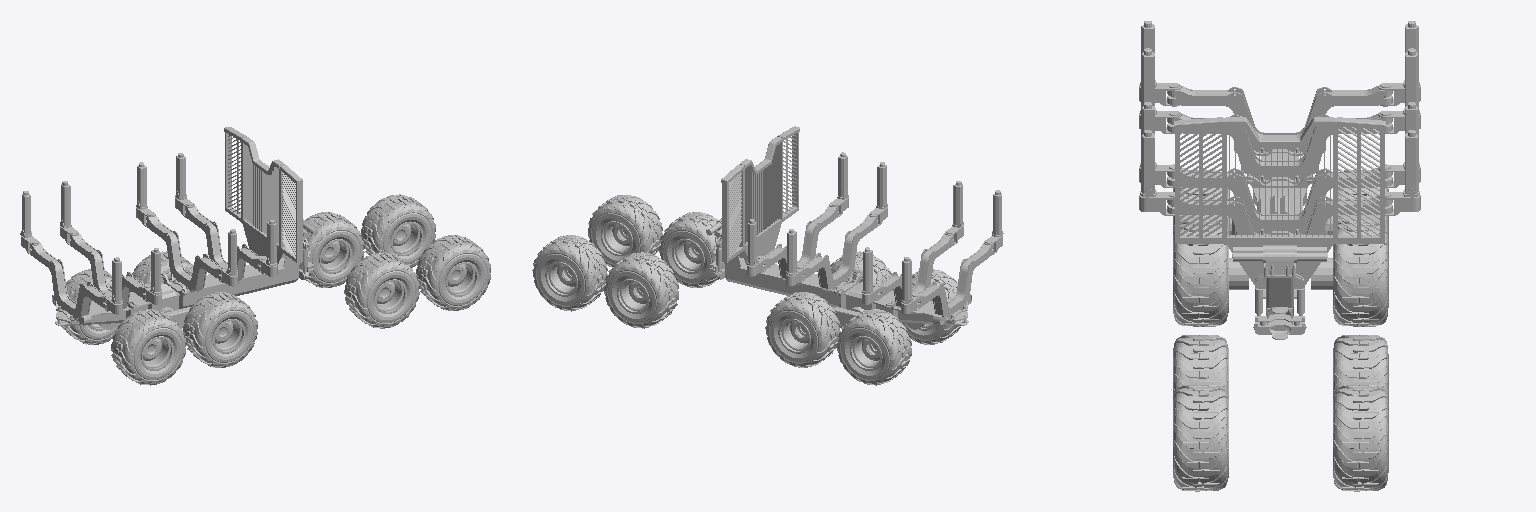
robot.urdf — forwarder:
<robot name="forwarder" version="1.0">
  <joint name="crane_link_joint" type="fixed">
    <origin rpy="0.00000 0.00000 0.00000" xyz="0.96436 0.00000 3.04438" />
    <parent link="rear_chassis_link" />
    <child link="crane_link" />
  </joint>
  <joint name="fl1_wheel_link_joint" type="revolute">
    <limit lower="-3.14000" upper="3.14000" effort="0.00000" velocity="0.00000" />
    <origin rpy="0.00000 0.00000 0.00000" xyz="0.78107 1.04566 0.00000" />
    <parent link="front_axle_link" />
    <child link="fl1_wheel_link" />
    <axis xyz="0.00000 1.00000 0.00000" />
  </joint>
  <joint name="fl2_wheel_link_joint" type="revolute">
    <limit lower="-3.14000" upper="3.14000" effort="0.00000" velocity="0.00000" />
    <origin rpy="0.00000 0.00000 0.00000" xyz="-0.78107 1.04565 0.00000" />
    <parent link="front_axle_link" />
    <child link="fl2_wheel_link" />
    <axis xyz="0.00000 1.00000 0.00000" />
  </joint>
  <joint name="fr1_wheel_link_joint" type="revolute">
    <limit lower="-3.14000" upper="3.14000" effort="0.00000" velocity="0.00000" />
    <origin rpy="0.00000 0.00000 0.00000" xyz="0.78107 -1.04566 -0.00000" />
    <parent link="front_axle_link" />
    <child link="fr1_wheel_link" />
    <axis xyz="0.00000 1.00000 0.00000" />
  </joint>
  <joint name="fr2_wheel_link_joint" type="revolute">
    <limit lower="-3.14000" upper="3.14000" effort="0.00000" velocity="0.00000" />
    <origin rpy="0.00000 0.00000 0.00000" xyz="-0.78107 -1.04566 0.00000" />
    <parent link="front_axle_link" />
    <child link="fr2_wheel_link" />
    <axis xyz="0.00000 1.00000 0.00000" />
  </joint>
  <joint name="front_axle_link_joint" type="fixed">
    <origin rpy="0.00000 0.00000 0.00000" xyz="-0.15880 0.00000 -1.89274" />
    <parent link="front_chassis_link" />
    <child link="front_axle_link" />
  </joint>
  <joint name="front_chassis_link_joint" type="fixed">
    <origin rpy="0.00000 0.00000 0.00000" xyz="1.98971 0.00000 1.46893" />
    <parent link="hitch_link" />
    <child link="front_chassis_link" />
  </joint>
  <joint name="front_end_link_joint" type="fixed">
    <origin rpy="0.00000 0.00000 0.00000" xyz="2.52363 0.00000 -1.36646" />
    <parent link="front_chassis_link" />
    <child link="front_end_link" />
  </joint>
  <joint name="hitch_link_joint" type="revolute">
    <limit lower="-3.14000" upper="3.14000" effort="0.00000" velocity="0.00000" />
    <origin rpy="0.00000 0.00000 0.00000" xyz="2.86877 0.00000 -0.56212" />
    <parent link="rear_chassis_link" />
    <child link="hitch_link" />
    <axis xyz="0.00000 0.00000 1.00000" />
  </joint>
  <joint name="rear_axle_link_joint" type="fixed">
    <origin rpy="0.00000 0.00000 0.00000" xyz="-0.39936 0.00000 -0.98593" />
    <parent link="rear_chassis_link" />
    <child link="rear_axle_link" />
  </joint>
  <joint name="rear_chassis_link_joint" type="fixed">
    <origin rpy="0.00000 0.00000 0.00000" xyz="2.60979 0.00000 0.59423" />
    <parent link="rear_end_link" />
    <child link="rear_chassis_link" />
  </joint>
  <joint name="rear_end_link_joint" type="fixed">
    <origin rpy="0.00000 0.00000 0.00000" xyz="-4.93062 0.00000 1.07094" />
    <parent link="base_link" />
    <child link="rear_end_link" />
  </joint>
  <joint name="rl1_wheel_link_joint" type="revolute">
    <limit lower="-3.14000" upper="3.14000" effort="0.00000" velocity="0.00000" />
    <origin rpy="0.00000 0.00000 0.00000" xyz="0.78107 1.04566 0.00000" />
    <parent link="rear_axle_link" />
    <child link="rl1_wheel_link" />
    <axis xyz="0.00000 1.00000 0.00000" />
  </joint>
  <joint name="rl2_wheel_link_joint" type="revolute">
    <limit lower="-3.14000" upper="3.14000" effort="0.00000" velocity="0.00000" />
    <origin rpy="0.00000 0.00000 0.00000" xyz="-0.78107 1.04565 -0.00000" />
    <parent link="rear_axle_link" />
    <child link="rl2_wheel_link" />
    <axis xyz="0.00000 1.00000 0.00000" />
  </joint>
  <joint name="rr1_wheel_link_joint" type="revolute">
    <limit lower="-3.14000" upper="3.14000" effort="0.00000" velocity="0.00000" />
    <origin rpy="0.00000 0.00000 0.00000" xyz="0.78107 -1.04566 -0.00000" />
    <parent link="rear_axle_link" />
    <child link="rr1_wheel_link" />
    <axis xyz="0.00000 1.00000 0.00000" />
  </joint>
  <joint name="rr2_wheel_link_joint" type="revolute">
    <limit lower="-3.14000" upper="3.14000" effort="0.00000" velocity="0.00000" />
    <origin rpy="0.00000 0.00000 0.00000" xyz="-0.78107 -1.04566 -0.00000" />
    <parent link="rear_axle_link" />
    <child link="rr2_wheel_link" />
    <axis xyz="0.00000 1.00000 0.00000" />
  </joint>
  <link name="base_link" />
  <link name="crane_link">
    <visual name="crane">
      <origin rpy="0.00000 0.00000 0.00000" xyz="0.00000 0.00000 0.00000" />
      <material name="Main_Back_Mat" />
      <geometry>
        <mesh filename="package://waywiser_description/meshes/forwarder/crane.dae"
          scale="1.00000 1.00000 1.00000" />
      </geometry>
    </visual>
  </link>
  <link name="fl1_wheel_link">
    <visual name="fl1_wheel">
      <origin rpy="0.00000 0.00000 0.00000" xyz="0.00000 0.00000 0.00000" />
      <material name="Tires_Mat" />
      <geometry>
        <mesh filename="package://waywiser_description/meshes/forwarder/wheel.dae"
          scale="1.00000 1.00000 1.00000" />
      </geometry>
    </visual>
  </link>
  <link name="fl2_wheel_link">
    <visual name="fl2_wheel">
      <origin rpy="0.00000 0.00000 0.00000" xyz="0.00000 0.00000 0.00000" />
      <material name="Tires_Mat" />
      <geometry>
        <mesh filename="package://waywiser_description/meshes/forwarder/wheel.dae"
          scale="1.00000 1.00000 1.00000" />
      </geometry>
    </visual>
  </link>
  <link name="fr1_wheel_link">
    <visual name="fr1_wheel">
      <origin rpy="0.00000 0.00000 0.00000" xyz="0.00000 0.00000 0.00000" />
      <material name="Tires_Mat" />
      <geometry>
        <mesh filename="package://waywiser_description/meshes/forwarder/wheel.dae"
          scale="1.00000 1.00000 1.00000" />
      </geometry>
    </visual>
  </link>
  <link name="fr2_wheel_link">
    <visual name="fr2_wheel">
      <origin rpy="0.00000 0.00000 0.00000" xyz="0.00000 0.00000 0.00000" />
      <material name="Tires_Mat" />
      <geometry>
        <mesh filename="package://waywiser_description/meshes/forwarder/wheel.dae"
          scale="1.00000 1.00000 1.00000" />
      </geometry>
    </visual>
  </link>
  <link name="front_axle_link" />
  <link name="front_chassis_link">
    <visual name="front_chassis">
      <origin rpy="0.00000 0.00000 0.00000" xyz="0.00000 0.00000 0.00000" />
      <material name="Main_Front_Mat" />
      <geometry>
        <mesh filename="package://waywiser_description/meshes/forwarder/front_chassis.dae"
          scale="1.00000 1.00000 1.00000" />
      </geometry>
    </visual>
  </link>
  <link name="front_end_link" />
  <link name="hitch_link" />
  <link name="rear_axle_link" />
  <link name="rear_chassis_link">
    <visual name="rear_chassis">
      <origin rpy="0.00000 0.00000 0.00000" xyz="0.00000 0.00000 0.00000" />
      <material name="Main_Back_Mat" />
      <geometry>
        <mesh filename="package://waywiser_description/meshes/forwarder/rear_chassis.dae"
          scale="1.00000 1.00000 1.00000" />
      </geometry>
    </visual>
  </link>
  <link name="rear_end_link" />
  <link name="rl1_wheel_link">
    <visual name="rl1_wheel">
      <origin rpy="0.00000 0.00000 0.00000" xyz="0.00000 0.00000 0.00000" />
      <material name="Tires_Mat" />
      <geometry>
        <mesh filename="package://waywiser_description/meshes/forwarder/wheel.dae"
          scale="1.00000 1.00000 1.00000" />
      </geometry>
    </visual>
  </link>
  <link name="rl2_wheel_link">
    <visual name="rl2_wheel">
      <origin rpy="0.00000 0.00000 0.00000" xyz="0.00000 0.00000 0.00000" />
      <material name="Tires_Mat" />
      <geometry>
        <mesh filename="package://waywiser_description/meshes/forwarder/wheel.dae"
          scale="1.00000 1.00000 1.00000" />
      </geometry>
    </visual>
  </link>
  <link name="rr1_wheel_link">
    <visual name="rr1_wheel">
      <origin rpy="0.00000 0.00000 0.00000" xyz="0.00000 0.00000 0.00000" />
      <material name="Tires_Mat" />
      <geometry>
        <mesh filename="package://waywiser_description/meshes/forwarder/wheel.dae"
          scale="1.00000 1.00000 1.00000" />
      </geometry>
    </visual>
  </link>
  <link name="rr2_wheel_link">
    <visual name="rr2_wheel">
      <origin rpy="0.00000 0.00000 0.00000" xyz="0.00000 0.00000 0.00000" />
      <material name="Tires_Mat" />
      <geometry>
        <mesh filename="package://waywiser_description/meshes/forwarder/wheel.dae"
          scale="1.00000 1.00000 1.00000" />
      </geometry>
    </visual>
  </link>
  <material name="Main_Back_Mat">
    <color rgba="0.80000 0.80000 0.80000 1.00000" />
  </material>
  <material name="Main_Front_Mat">
    <color rgba="0.80000 0.80000 0.80000 1.00000" />
  </material>
  <material name="Tires_Mat">
    <color rgba="0.80000 0.80000 0.80000 1.00000" />
  </material>
</robot>

--- Facts derived from the render (not from the file) ---
Views: 3 orthographic renders of the robot side by side, from view 1: azimuth 30°, elevation 25°; view 2: azimuth 150°, elevation 25°; view 3: azimuth 270°, elevation 25°.
Model forwarder with 17 links and 16 joints (9 revolute, 7 fixed), rooted at base_link, posed all joints at 0.
Links seen in each view (by area): view 1: rear_chassis_link, fr2_wheel_link, rr2_wheel_link, fr1_wheel_link, rr1_wheel_link, fl1_wheel_link, fl2_wheel_link, rl2_wheel_link, rl1_wheel_link; view 2: rear_chassis_link, fl2_wheel_link, rl2_wheel_link, fl1_wheel_link, rl1_wheel_link, fr1_wheel_link, fr2_wheel_link, rr2_wheel_link, rr1_wheel_link; view 3: rear_chassis_link, fr1_wheel_link, fl1_wheel_link, rl1_wheel_link, rr1_wheel_link, fl2_wheel_link, fr2_wheel_link.
Boxes of the visible links, x1=… form: rear_chassis_link: x1=20, y1=127, x2=317, y2=329; fr2_wheel_link: x1=344, y1=252, x2=419, y2=328; rr2_wheel_link: x1=111, y1=309, x2=186, y2=385; fr1_wheel_link: x1=416, y1=235, x2=490, y2=310; rr1_wheel_link: x1=183, y1=291, x2=257, y2=367; fl1_wheel_link: x1=361, y1=194, x2=435, y2=267; fl2_wheel_link: x1=305, y1=212, x2=364, y2=287; rl2_wheel_link: x1=56, y1=269, x2=120, y2=344; rl1_wheel_link: x1=130, y1=251, x2=193, y2=291; rear_chassis_link: x1=706, y1=126, x2=1003, y2=350; fl2_wheel_link: x1=604, y1=252, x2=678, y2=328; rl2_wheel_link: x1=837, y1=309, x2=911, y2=385; fl1_wheel_link: x1=532, y1=235, x2=607, y2=311; rl1_wheel_link: x1=765, y1=292, x2=840, y2=367; fr1_wheel_link: x1=588, y1=195, x2=662, y2=267; fr2_wheel_link: x1=659, y1=212, x2=718, y2=287; rr2_wheel_link: x1=902, y1=269, x2=967, y2=344; rr1_wheel_link: x1=830, y1=251, x2=893, y2=290; rear_chassis_link: x1=1139, y1=21, x2=1420, y2=339; fr1_wheel_link: x1=1173, y1=385, x2=1228, y2=491; fl1_wheel_link: x1=1333, y1=385, x2=1388, y2=491; rl1_wheel_link: x1=1333, y1=220, x2=1388, y2=326; rr1_wheel_link: x1=1173, y1=220, x2=1228, y2=326; fl2_wheel_link: x1=1333, y1=335, x2=1388, y2=403; fr2_wheel_link: x1=1173, y1=335, x2=1228, y2=398.
Bounding box of the posed robot: 8.78 × 3.69 × 3.65 m (x, y, z).
9 mesh visuals loaded from 4 distinct referenced files (2 Collada DAE); not drawn: 2 (reference not matched to a file when rendering).
